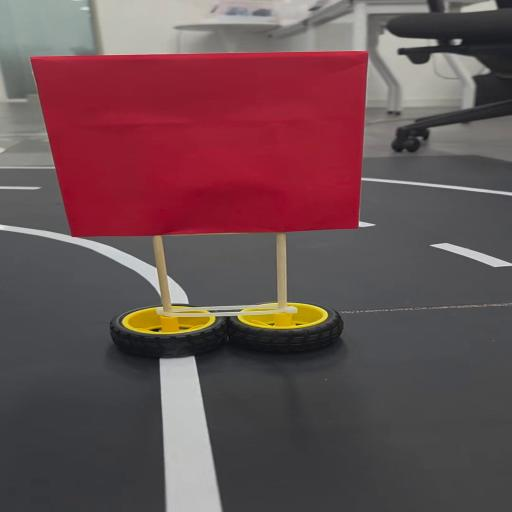Sign_A: (33, 55, 372, 356)
